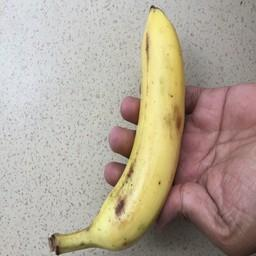Banana Ripe: (102, 3, 198, 256)
